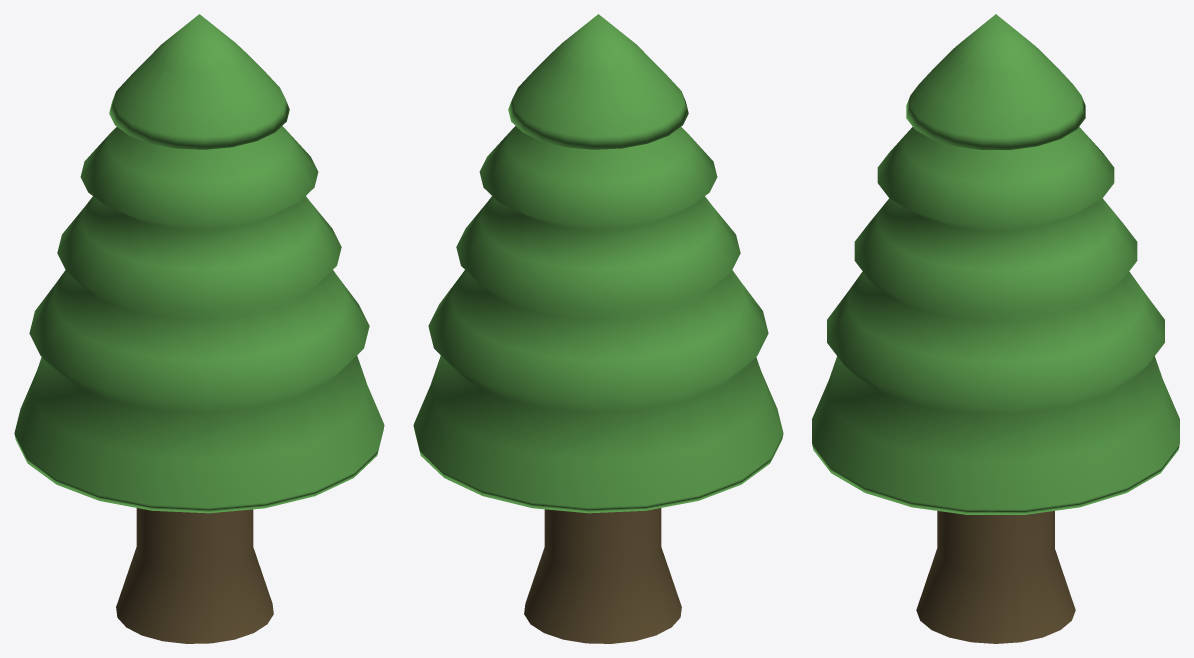
The model's file is Arbol4.fbx.
The picture shows the model from 3 angles, left to right: view 1: azimuth 30°, elevation 25°; view 2: azimuth 150°, elevation 25°; view 3: azimuth 270°, elevation 25°; orthographic projection.
Parts seen in each view (by area): view 1: pCone6; view 2: pCone6; view 3: pCone6.
Part boxes in pixels (x1,y1,x2,y2): pCone6: (14,14,384,643); pCone6: (413,14,783,643); pCone6: (812,14,1179,643).
Bounding box in the file's own units: 4.45 × 7.99 × 4.45.
